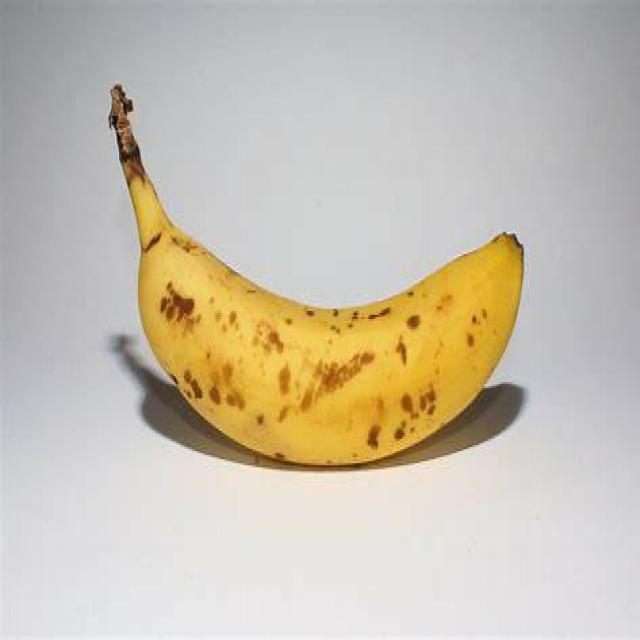Banana: (110, 87, 528, 466)
